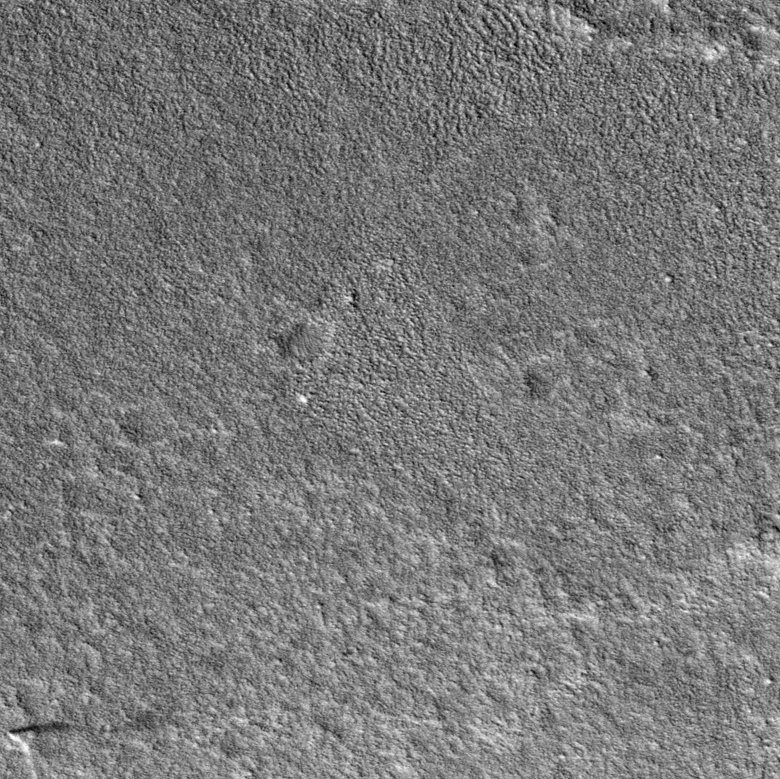dust_devil: (5, 719, 70, 756)
